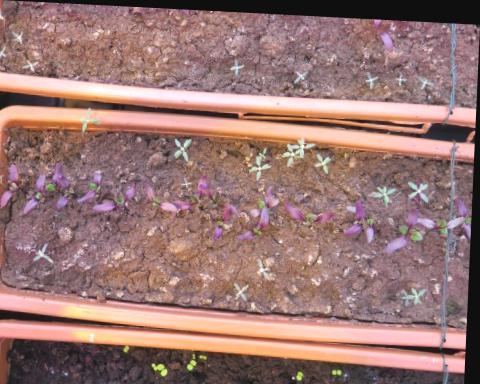weed: (28, 239, 58, 263), (171, 131, 194, 160), (255, 253, 276, 280), (233, 277, 253, 300), (314, 147, 333, 171), (226, 52, 246, 73), (363, 65, 380, 87), (416, 68, 436, 86), (20, 55, 40, 72), (291, 63, 309, 81), (7, 26, 25, 44), (391, 66, 408, 82), (187, 354, 200, 368), (332, 363, 347, 372), (296, 366, 308, 377), (123, 342, 133, 351), (200, 350, 211, 357), (235, 381, 253, 383)
